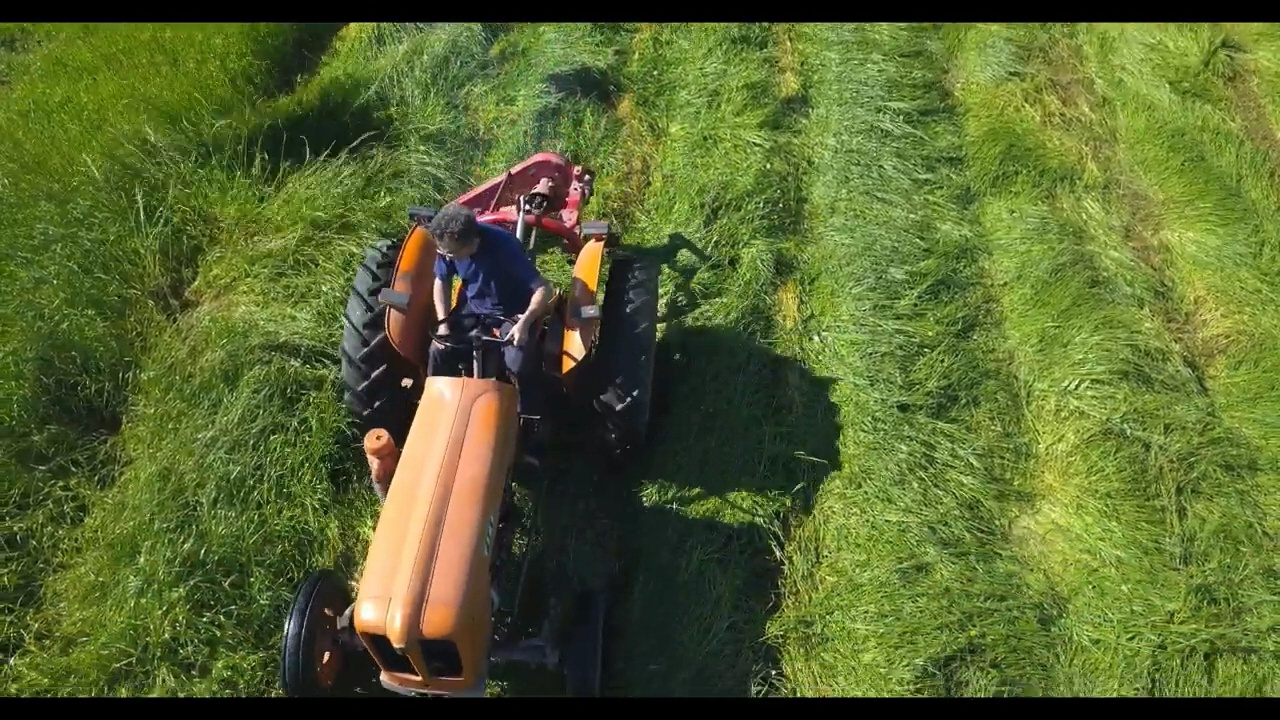insan: (424, 201, 551, 387)
traktor: (272, 201, 661, 703)
